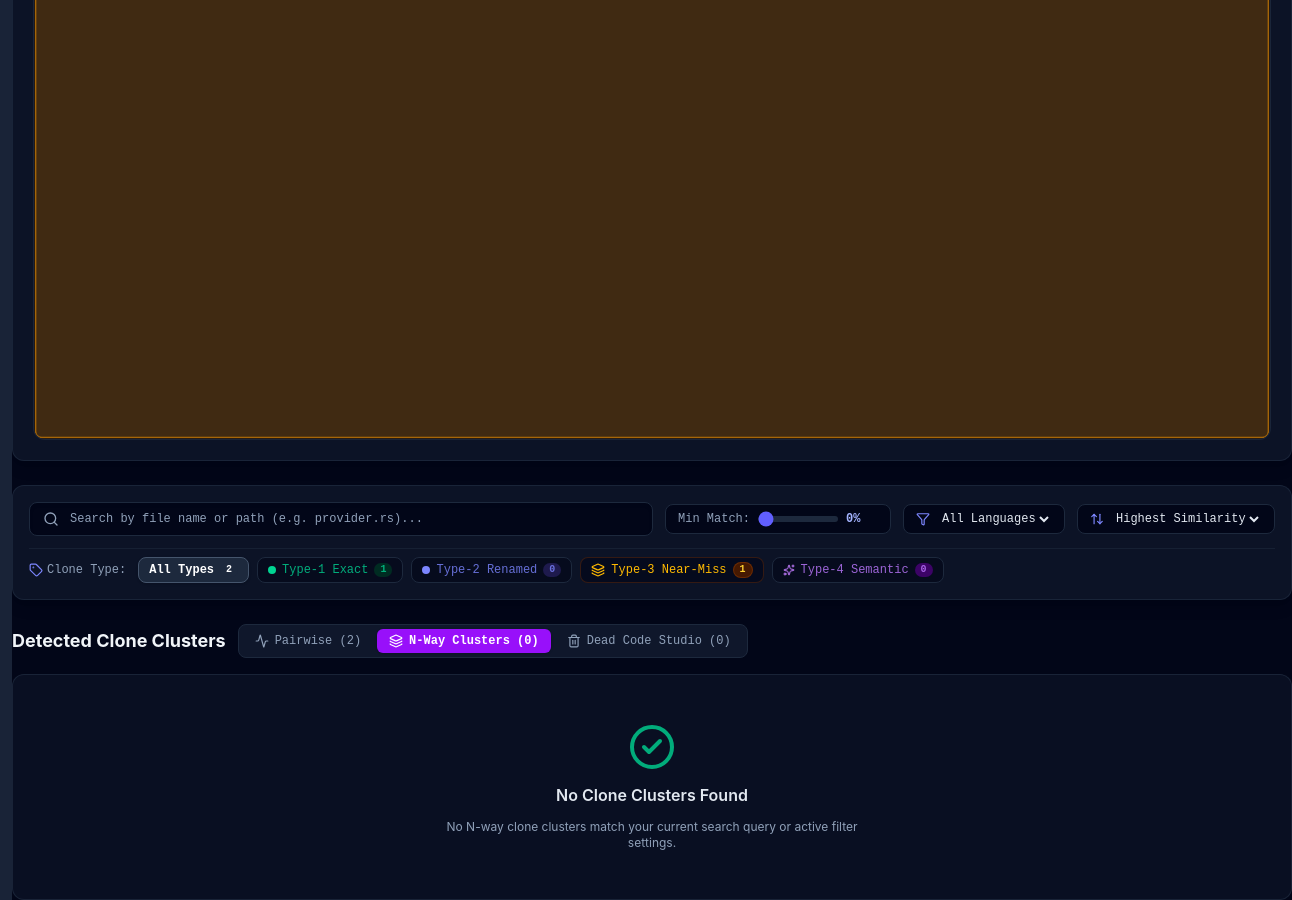
Scenario: ScanResults Component › should allow filtering by Type-3 Near-Miss clone type
(page scrolled)
Expected: the text "Type-3 Near-Miss" is shown, 611,562 -> 726,578
Step 1. Click the button "Type-3 Near-Miss 1" → (672, 570), box 580,557 -> 764,583
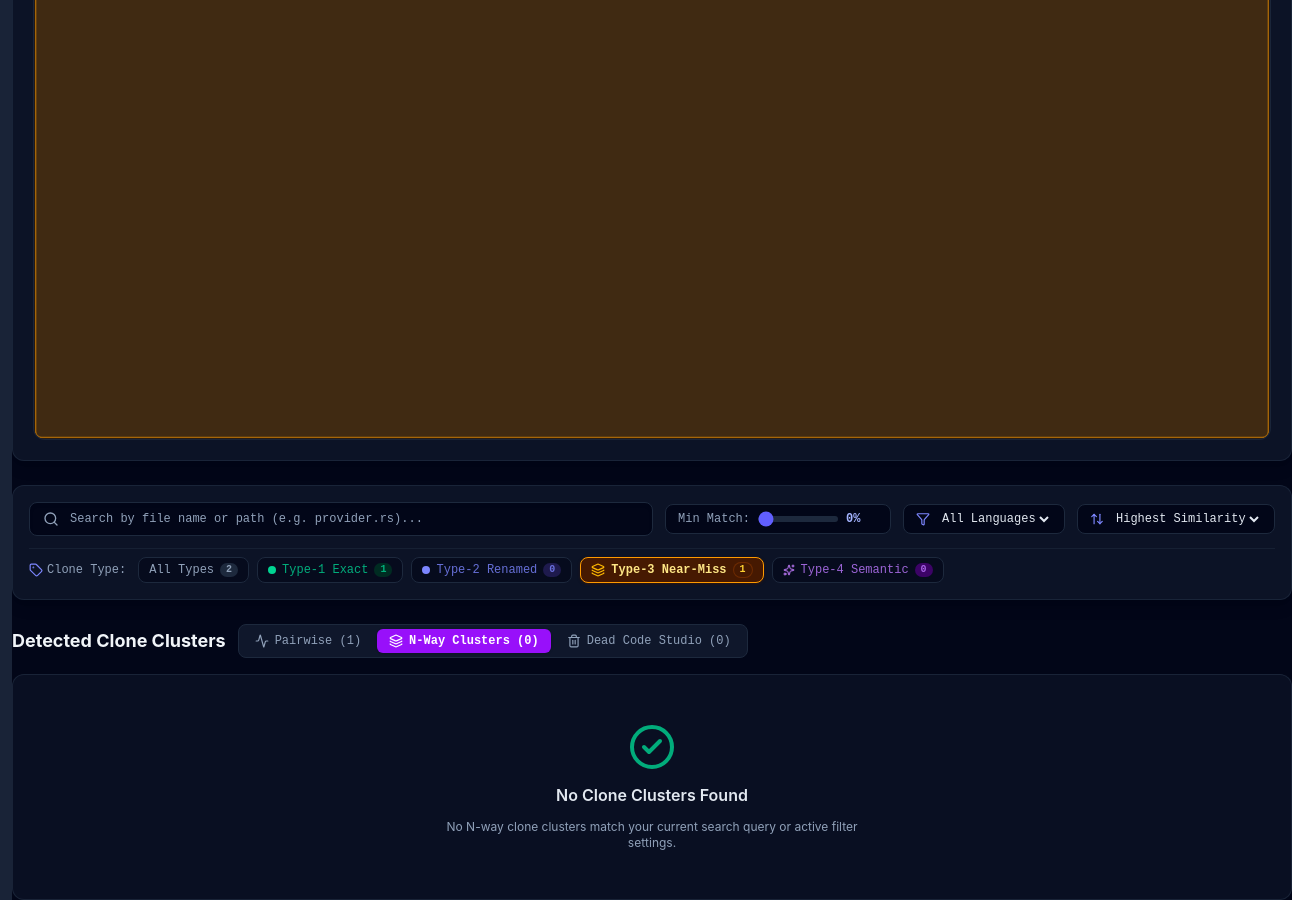
Expected: the text "Pairwise (1)" is shown, 275,633 -> 361,649
